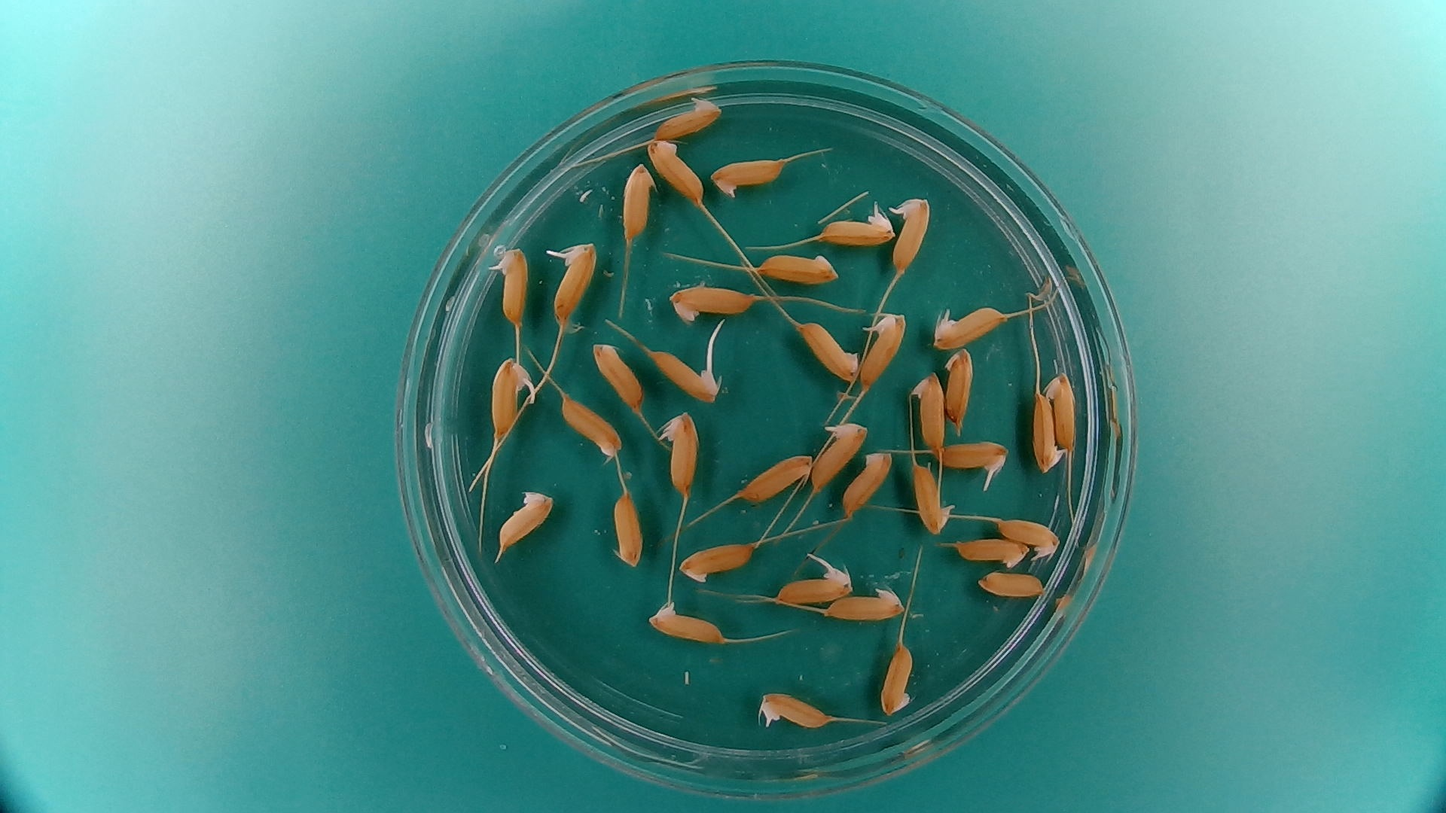no: (666, 280, 760, 330), (493, 487, 558, 559), (558, 392, 623, 462), (646, 596, 731, 646), (734, 451, 814, 504), (646, 136, 707, 205), (839, 446, 895, 521), (796, 319, 860, 382), (590, 340, 645, 412), (678, 540, 757, 585), (819, 586, 911, 623), (1044, 367, 1079, 464), (907, 370, 947, 452), (757, 249, 842, 287), (1030, 389, 1066, 474), (878, 640, 916, 719), (618, 160, 655, 240), (944, 347, 976, 437), (611, 486, 645, 570), (950, 535, 1028, 571), (977, 569, 1047, 600)
yes: (810, 418, 868, 491), (654, 410, 701, 497), (859, 309, 908, 391), (908, 459, 956, 537), (889, 190, 933, 275), (995, 514, 1063, 568), (708, 154, 789, 199), (650, 352, 722, 402), (548, 242, 593, 320), (930, 306, 1004, 352), (488, 358, 528, 440), (757, 689, 834, 730), (777, 569, 856, 607), (648, 99, 721, 139), (938, 437, 1010, 474), (818, 214, 896, 248), (499, 250, 530, 327)
